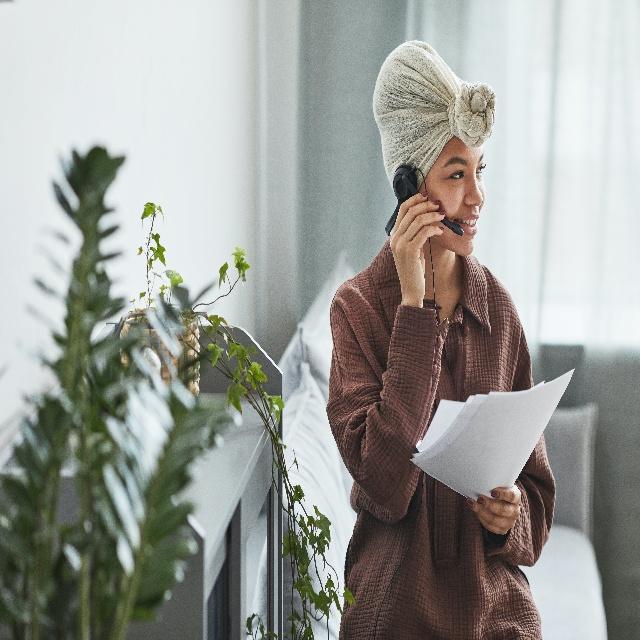Sin_guantes: (390, 183, 446, 297), (465, 483, 522, 539)
